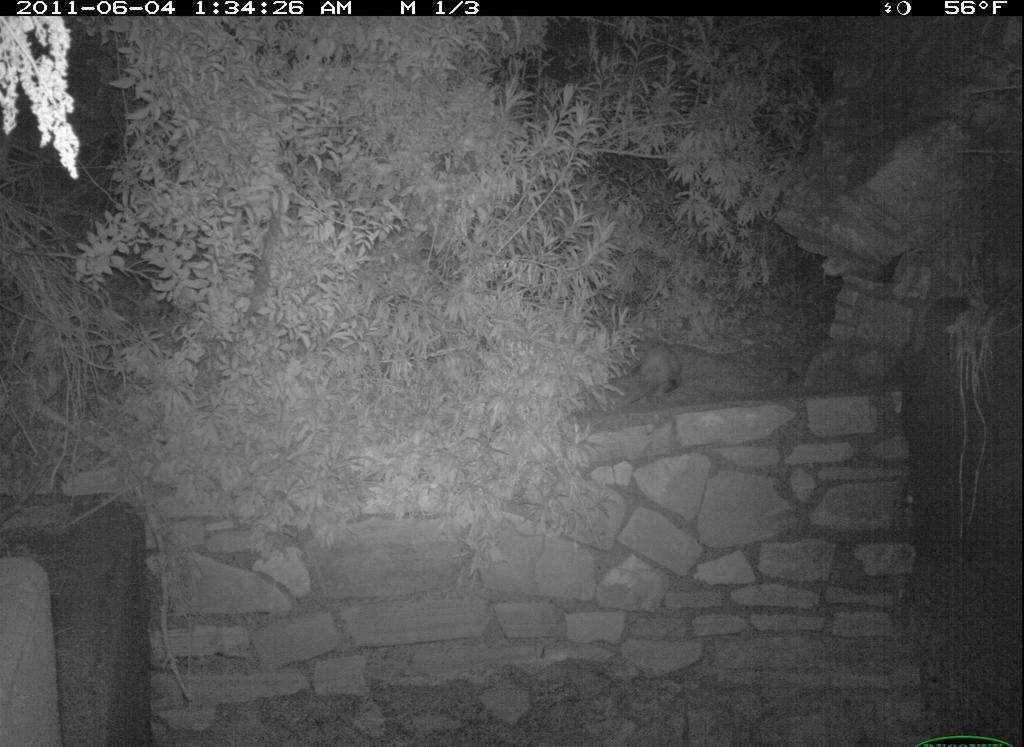opossum: (626, 344, 689, 409)
